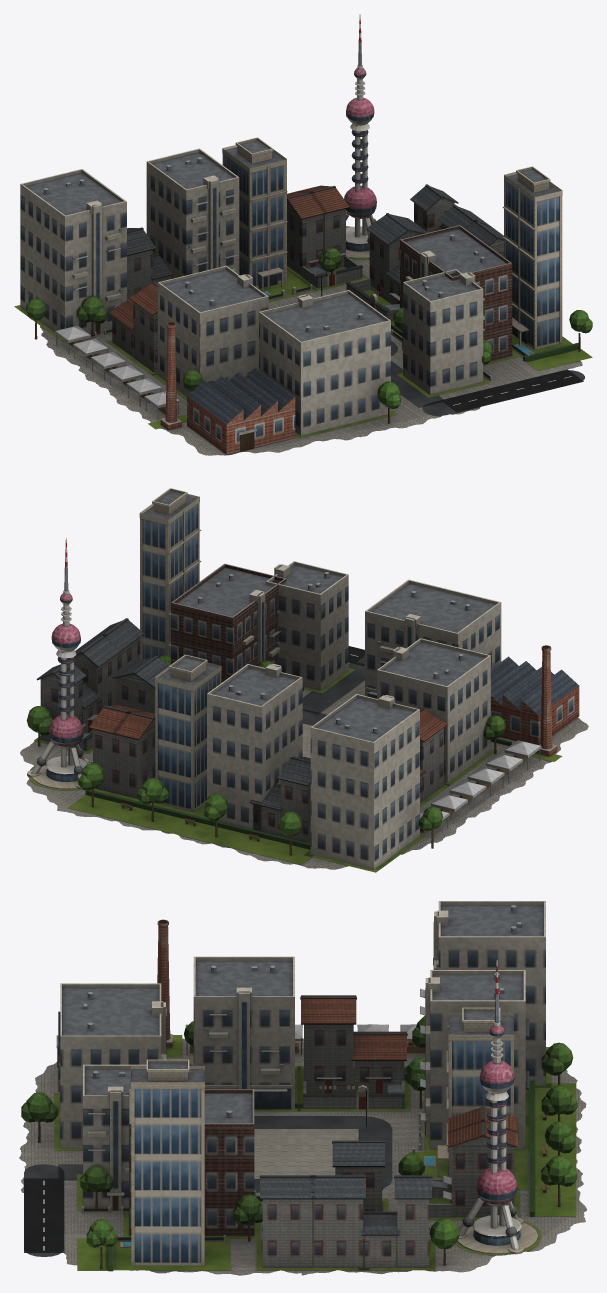
The model's file is modern-town-medium-b-sinic.glb.
3 views of the same model, one above another, from view 1: azimuth 30°, elevation 25°; view 2: azimuth 150°, elevation 25°; view 3: azimuth 270°, elevation 25° (orthographic). The views are drawn at different scales.
Visible parts, largest first — view 1: LOD0; view 2: LOD0; view 3: LOD0.
Boxes of the visible parts, x1=… form: LOD0: x1=14, y1=14, x2=592, y2=455; LOD0: x1=20, y1=488, x2=588, y2=872; LOD0: x1=19, y1=901, x2=587, y2=1275.
Size of what is drawn, in the model's own units: 6.06 by 3.23 by 6.07.
3 materials, 3 textured.
